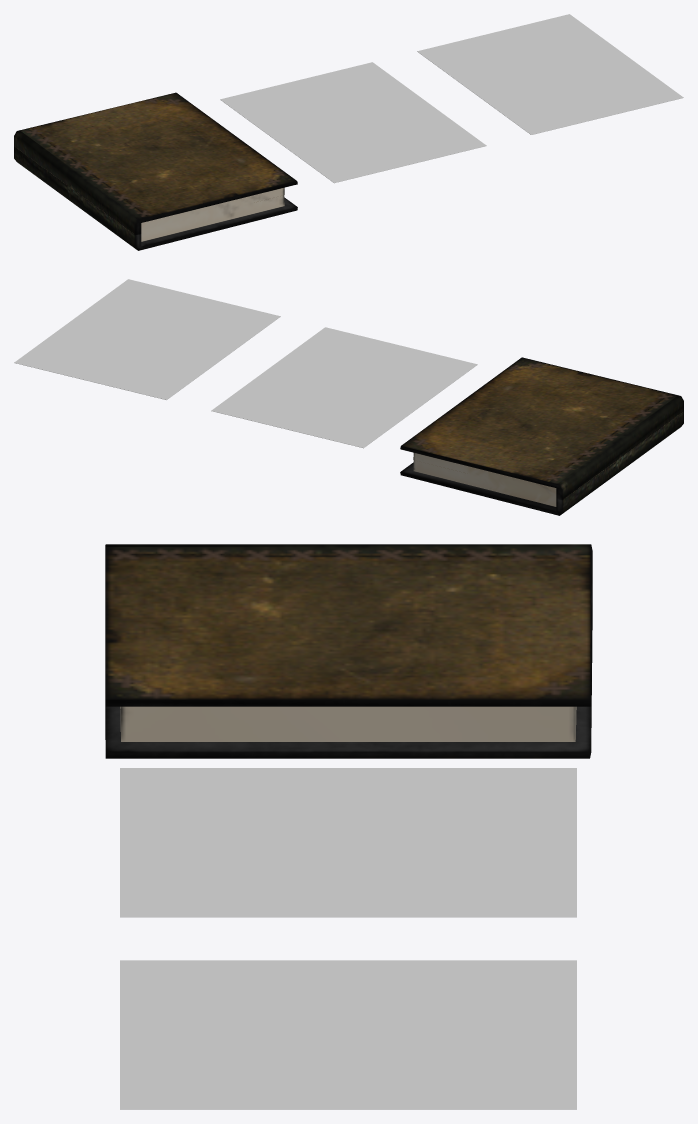
File: Diary2.fbx
3 views of the same model, one above another, from view 1: azimuth 30°, elevation 25°; view 2: azimuth 150°, elevation 25°; view 3: azimuth 270°, elevation 25° (orthographic). The views are drawn at different scales.
Parts seen in each view (by area): view 1: Diary_LOD0, Cube, Cube.002, Cube.001, Diary_LOD0.001; view 2: Diary_LOD0, Cube, Cube.002, Cube.001, Diary_LOD0.001; view 3: Diary_LOD0, Cube, Cube.002, Cube.001, Diary_LOD0.001.
Part boxes in pixels (x1=…): Diary_LOD0: x1=14, y1=92, x2=297, y2=235; Cube: x1=220, y1=62, x2=486, y2=183; Cube.002: x1=512, y1=19, x2=683, y2=134; Cube.001: x1=417, y1=14, x2=575, y2=120; Diary_LOD0.001: x1=14, y1=146, x2=297, y2=250; Diary_LOD0: x1=400, y1=357, x2=683, y2=500; Cube: x1=211, y1=327, x2=477, y2=448; Cube.002: x1=21, y1=279, x2=280, y2=362; Cube.001: x1=14, y1=327, x2=261, y2=399; Diary_LOD0.001: x1=400, y1=411, x2=683, y2=515; Diary_LOD0: x1=105, y1=544, x2=592, y2=719; Cube: x1=120, y1=768, x2=576, y2=917; Cube.002: x1=120, y1=960, x2=550, y2=1109; Cube.001: x1=196, y1=960, x2=576, y2=1109; Diary_LOD0.001: x1=105, y1=584, x2=592, y2=758.
Bounding box in the file's own units: 178 × 9.55 × 68.06.
